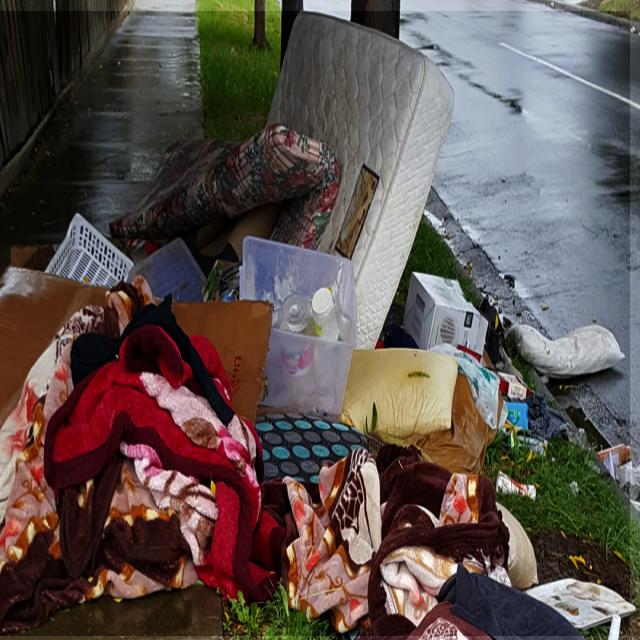dumping: (0, 11, 630, 636)
